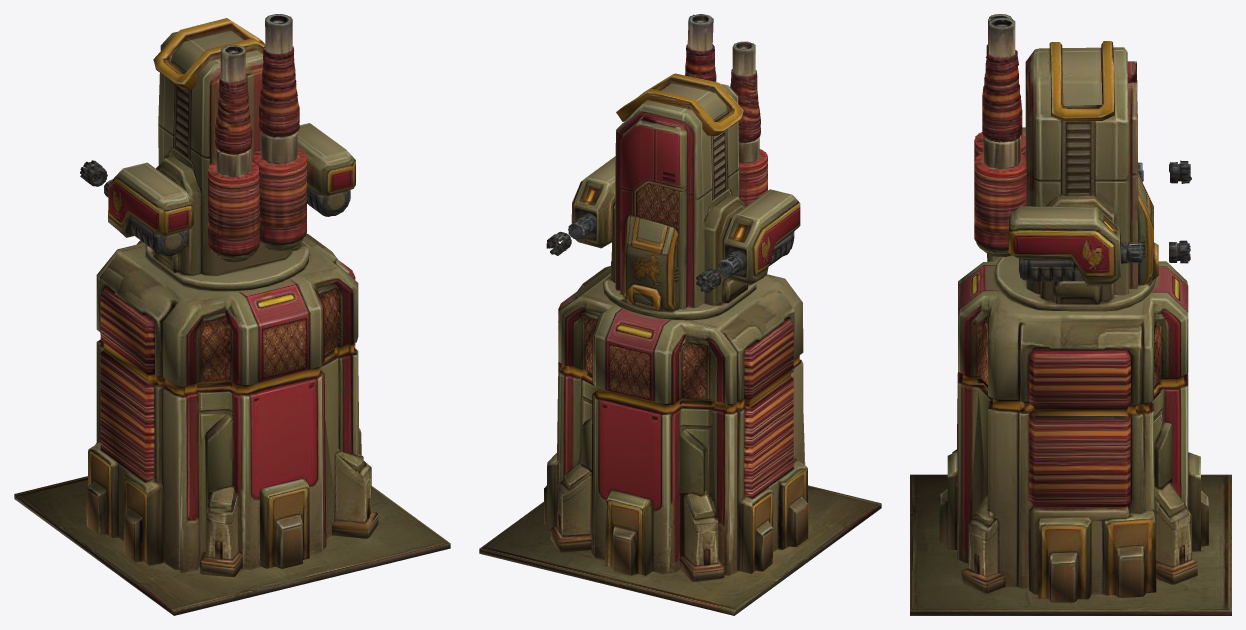
Rendered from flak_slag_mast.glb.
3 views of the same model, side by side, from view 1: azimuth 30°, elevation 25°; view 2: azimuth 150°, elevation 25°; view 3: azimuth 270°, elevation 25° (orthographic). The views are drawn at different scales.
Visible parts, largest first — view 1: Body, Turret, Trim; view 2: Body, Turret, Trim; view 3: Body, Turret, Trim.
Boxes of the visible parts, x1,y1,x2,y2 form: Body: [14, 14, 450, 615]; Turret: [80, 16, 355, 275]; Trim: [103, 343, 353, 565]; Body: [479, 14, 881, 615]; Turret: [546, 16, 800, 309]; Trim: [562, 287, 806, 549]; Body: [910, 17, 1231, 615]; Turret: [974, 14, 1191, 301]; Trim: [962, 375, 1183, 553].
Size of the model in its own units: 3.73 by 6.78 by 3.73.
2 materials, 2 textured.
